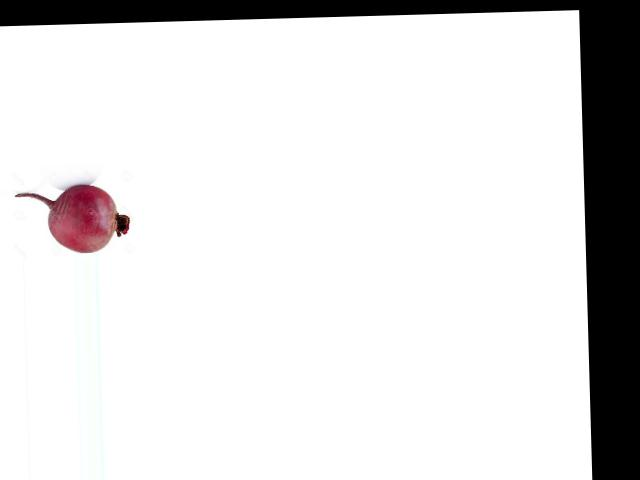beet: (15, 183, 130, 254)
